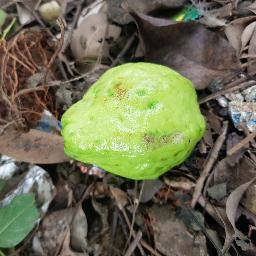Good_guava: (58, 61, 208, 180)
